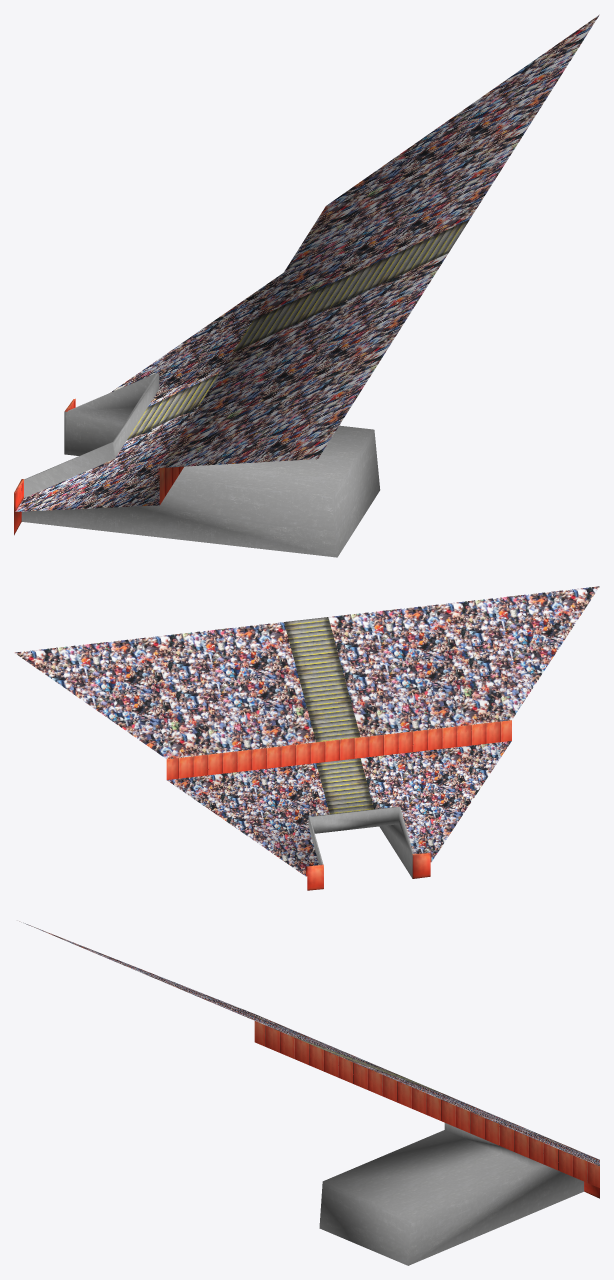
File: tribune_corner.fbx
3 renders of one model, top to bottom at view 1: azimuth 30°, elevation 25°; view 2: azimuth 150°, elevation 25°; view 3: azimuth 270°, elevation 25°, orthographic. The views are drawn at different scales.
Visible parts, largest first — view 1: Cube_006; view 2: Cube_006; view 3: Cube_006.
Boxes of the visible parts, x1,y1,x2,y2 form: Cube_006: (14, 14, 599, 557); Cube_006: (14, 586, 599, 890); Cube_006: (19, 921, 599, 1265).
Bounding box in the file's own units: 56 × 24 × 56.
